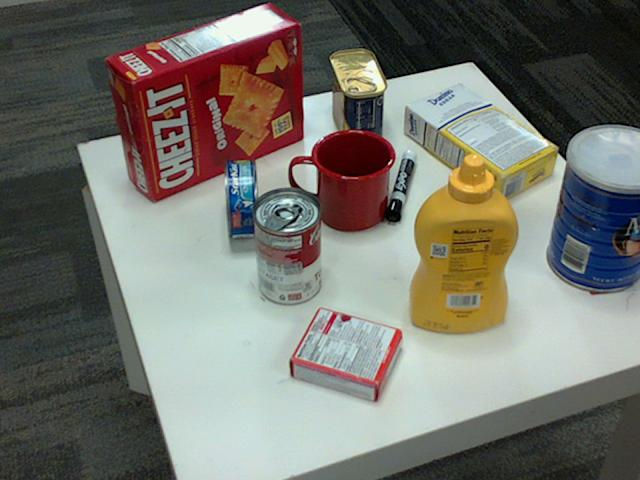cracker_box: (105, 0, 303, 199)
gelatin_box: (287, 307, 399, 404)
large_marker: (385, 153, 417, 221)
master_chef_can: (547, 125, 639, 293)
mug: (290, 127, 396, 230)
mustard_bottle: (408, 154, 518, 332)
potted_meat_can: (327, 50, 385, 149)
sugar_box: (404, 83, 560, 202)
tomato_soup_can: (252, 187, 321, 305)
tuna_fish_can: (222, 159, 258, 239)
